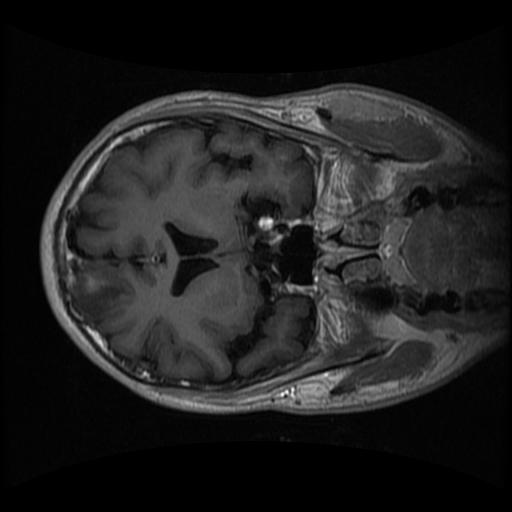glioma: (66, 256, 134, 322)
